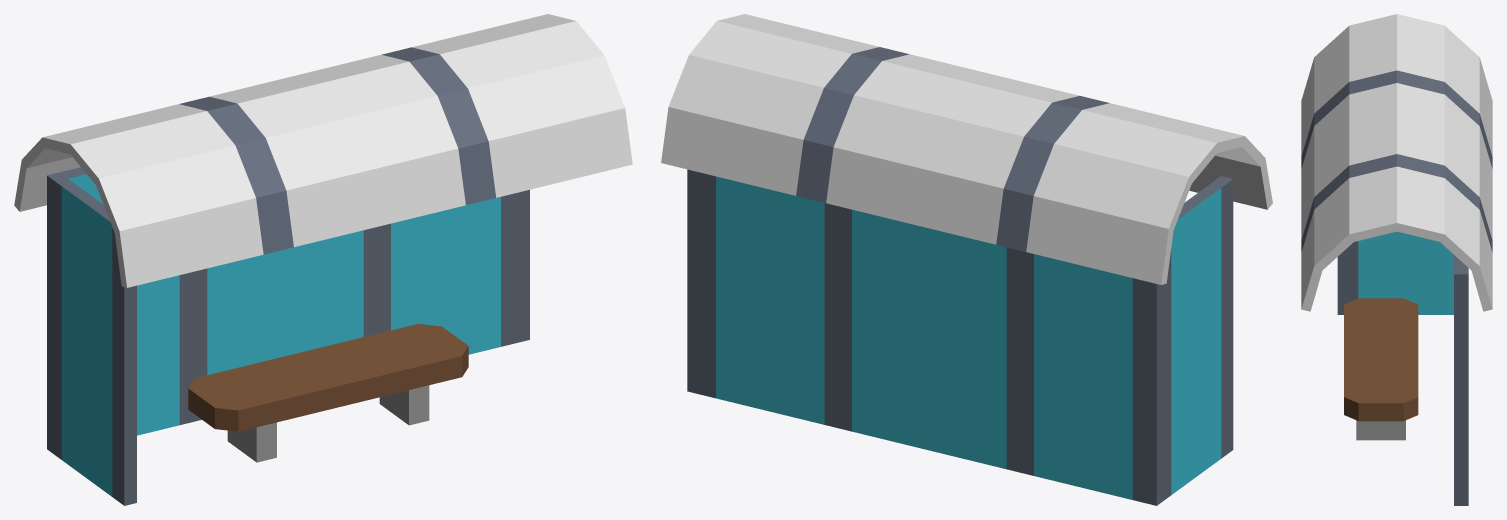
Rendered from Bus Stop 1 Fractured.fbx.
3 views of the same model, side by side, from view 1: azimuth 30°, elevation 25°; view 2: azimuth 150°, elevation 25°; view 3: azimuth 270°, elevation 25° (orthographic). The views are drawn at different scales.
Visible parts, largest first — view 1: Bus_Stop_01_Breaking.003, Bus_Stop_01_Breaking.001, Bus_Stop_01_Breaking, Bus_Stop_01_Breaking.004, Bus_Stop_01_Breaking.002; view 2: Bus_Stop_01_Breaking, Bus_Stop_01_Breaking.004, Bus_Stop_01_Breaking.003, Bus_Stop_01_Breaking.001; view 3: Bus_Stop_01_Breaking.003, Bus_Stop_01_Breaking.001, Bus_Stop_01_Breaking.002, Bus_Stop_01_Breaking, Bus_Stop_01_Breaking.004.
Part boxes in pixels (x1=…): Bus_Stop_01_Breaking.003: x1=255, y1=14, x2=632, y2=216; Bus_Stop_01_Breaking.001: x1=14, y1=85, x2=416, y2=287; Bus_Stop_01_Breaking: x1=47, y1=167, x2=284, y2=505; Bus_Stop_01_Breaking.004: x1=251, y1=189, x2=529, y2=364; Bus_Stop_01_Breaking.002: x1=188, y1=323, x2=468, y2=462; Bus_Stop_01_Breaking: x1=907, y1=176, x2=1233, y2=505; Bus_Stop_01_Breaking.004: x1=687, y1=169, x2=976, y2=461; Bus_Stop_01_Breaking.003: x1=661, y1=14, x2=1034, y2=214; Bus_Stop_01_Breaking.001: x1=875, y1=85, x2=1272, y2=284; Bus_Stop_01_Breaking.003: x1=1301, y1=96, x2=1492, y2=311; Bus_Stop_01_Breaking.001: x1=1301, y1=14, x2=1492, y2=219; Bus_Stop_01_Breaking.002: x1=1344, y1=298, x2=1418, y2=440; Bus_Stop_01_Breaking: x1=1337, y1=231, x2=1453, y2=314; Bus_Stop_01_Breaking.004: x1=1454, y1=255, x2=1468, y2=505.
Bounding box in the file's own units: 199 × 128 × 77.08.
